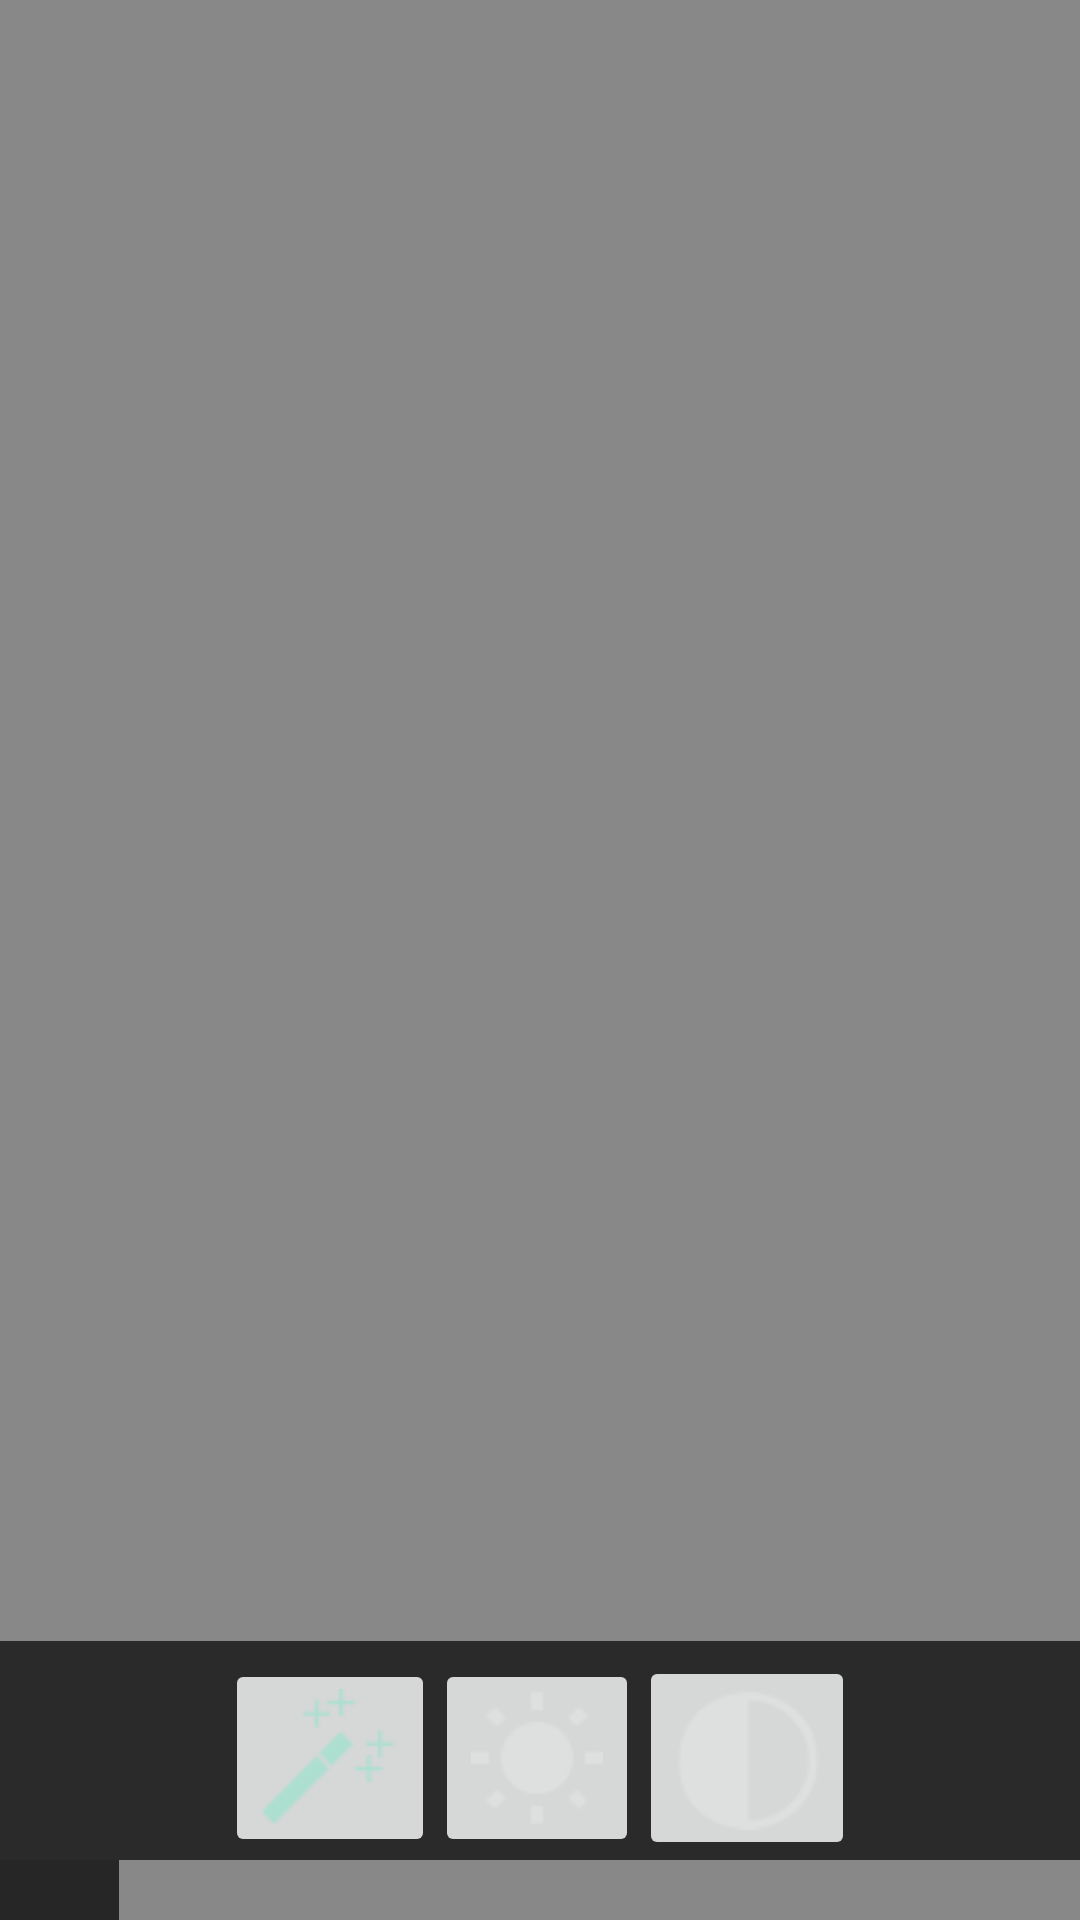

Screen size 1080px x 1920px. Icon name, then its box in pixels as (x1, y1, x2, y2):
effects on: (237, 1677, 423, 1839)
